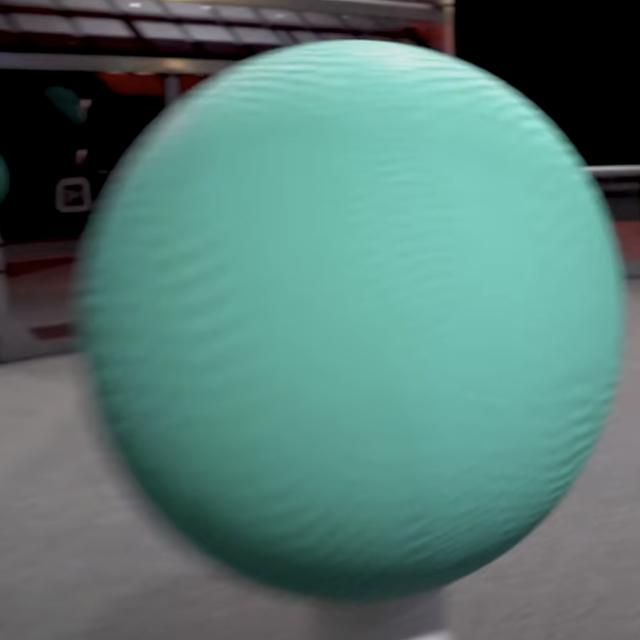Algae: (79, 39, 623, 598)
Coral: (306, 599, 449, 639)
